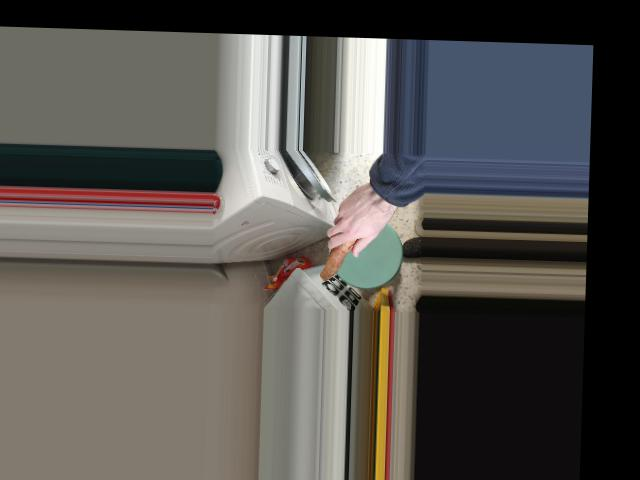sweet_potato: (319, 204, 377, 279)
